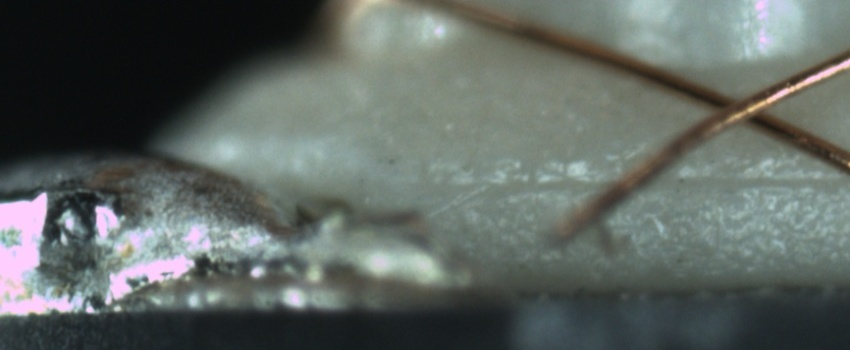CL: (688, 79, 786, 139)
DL: (435, 154, 850, 219)
